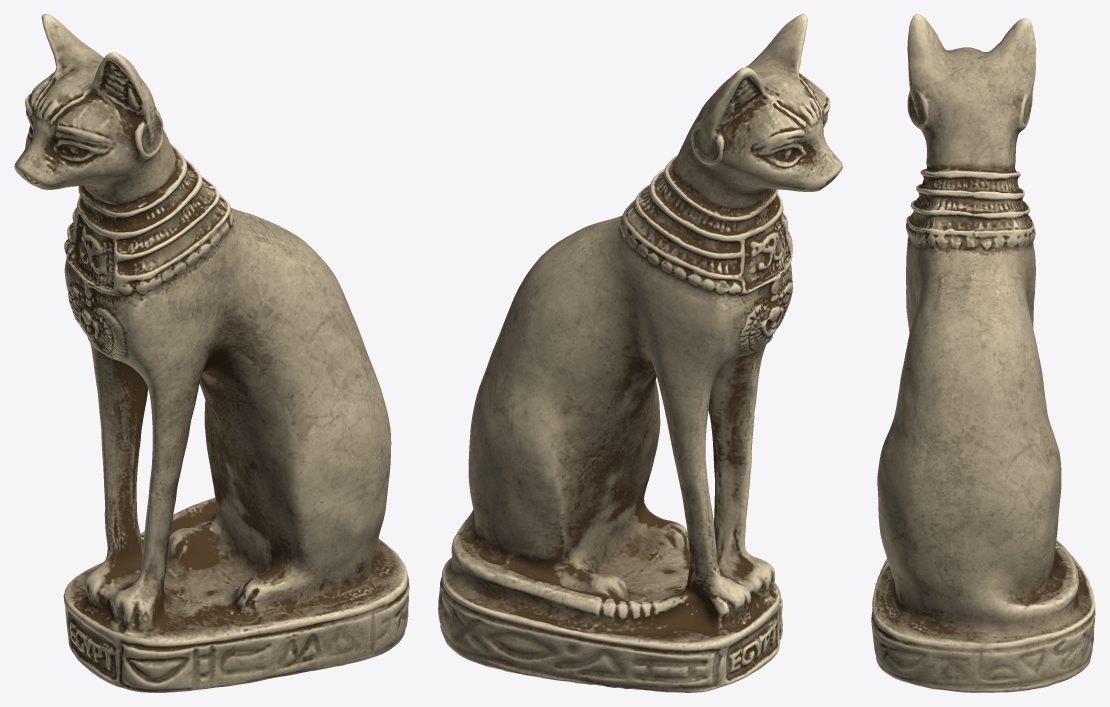
File: cat_egypt.glb
3 renders of one model, left to right at view 1: azimuth 30°, elevation 25°; view 2: azimuth 150°, elevation 25°; view 3: azimuth 270°, elevation 25°, orthographic. The views are drawn at different scales.
Visible parts, largest first — view 1: Object_2; view 2: Object_2; view 3: Object_2.
Boxes of the visible parts, x1,y1,x2,y2 form: Object_2: (14, 14, 409, 692); Object_2: (438, 14, 842, 692); Object_2: (871, 14, 1095, 692).
Bounding box in the file's own units: 0.3183 × 0.5209 × 0.1921.
Materials: 1 (1 with a texture image).
